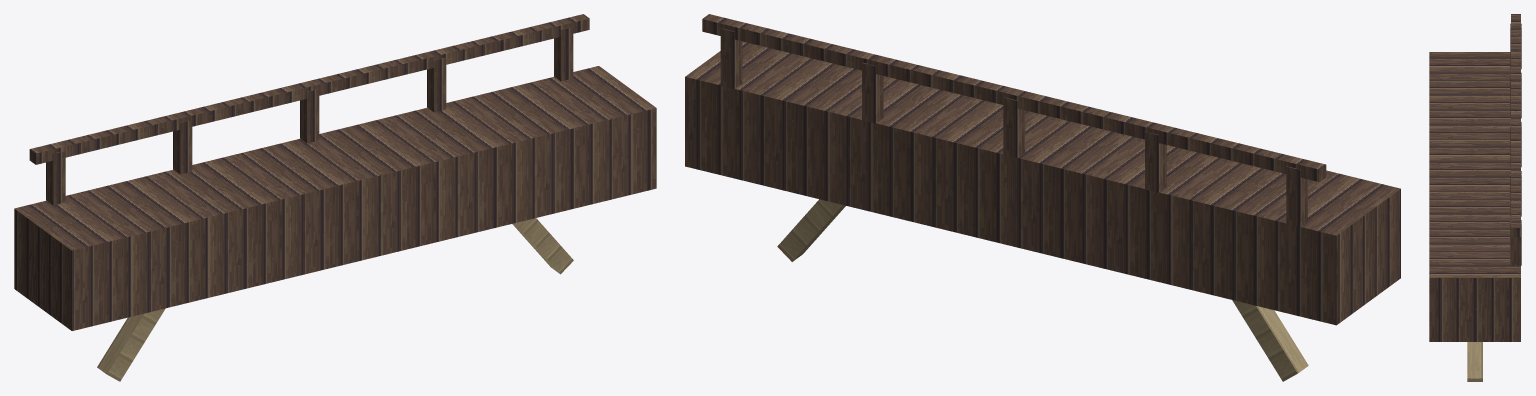
Rendered from gate_lintel.glb.
The picture shows the model from 3 angles, left to right: view 1: azimuth 30°, elevation 25°; view 2: azimuth 150°, elevation 25°; view 3: azimuth 270°, elevation 25°; orthographic projection. The views are drawn at different scales.
Visible parts, largest first — view 1: gate_lintel; view 2: gate_lintel; view 3: gate_lintel.
Boxes of the visible parts, x1,y1,x2,y2 form: gate_lintel: (14, 14, 656, 381); gate_lintel: (685, 14, 1400, 381); gate_lintel: (1429, 14, 1521, 381).
Size of the model in its own units: 7.6 by 2.76 by 1.31.
Materials: 2 (2 with a texture image).
